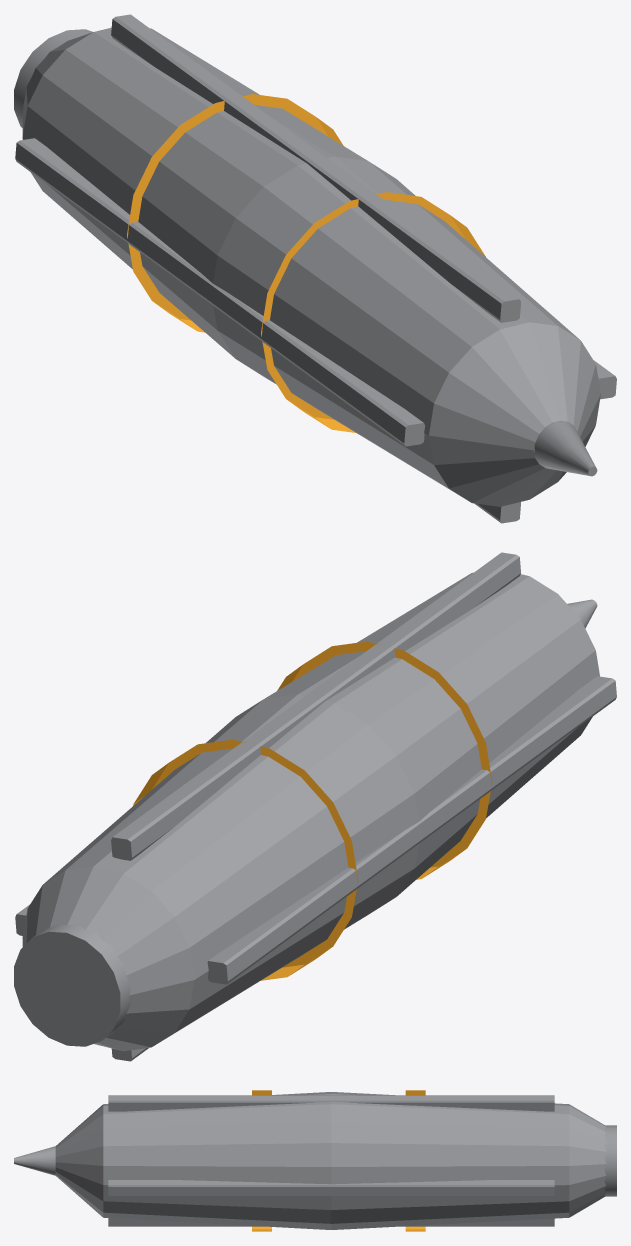
File: streak_nuke.glb
3 views of the same model, one above another, from view 1: azimuth 30°, elevation 25°; view 2: azimuth 150°, elevation 25°; view 3: azimuth 270°, elevation 25° (orthographic). The views are drawn at different scales.
Visible parts, largest first — view 1: streak_nuke__streak_nuke, streak_nuke__band; view 2: streak_nuke__streak_nuke, streak_nuke__band; view 3: streak_nuke__streak_nuke, streak_nuke__band.
Part boxes in pixels (x1,y1,x2,y2): streak_nuke__streak_nuke: (14,14,616,523); streak_nuke__band: (127,94,485,432); streak_nuke__streak_nuke: (14,552,616,1061); streak_nuke__band: (133,641,492,980); streak_nuke__streak_nuke: (14,1092,616,1229); streak_nuke__band: (252,1090,425,1231).
Size of the model in its own units: 0.286 by 0.284 by 1.22.
